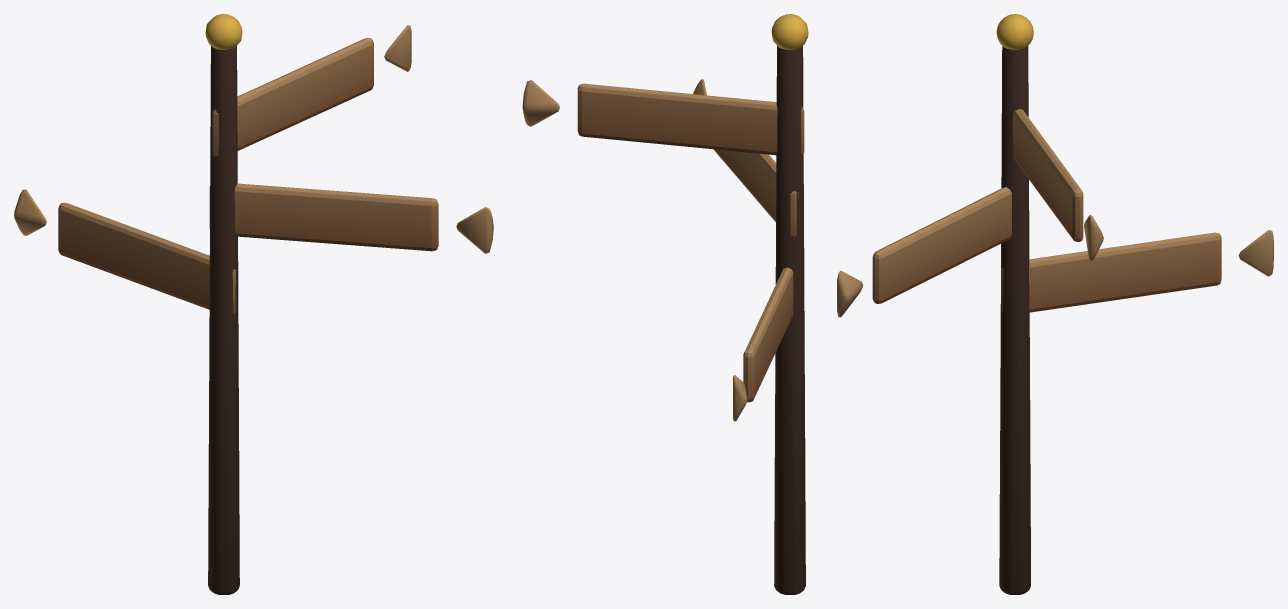
File: signpost.glb
3 views of the same model, side by side, from view 1: azimuth 30°, elevation 25°; view 2: azimuth 150°, elevation 25°; view 3: azimuth 270°, elevation 25° (orthographic).
Visible parts, largest first — view 1: Sign; view 2: Sign; view 3: Sign.
Boxes of the visible parts, x1,y1,x2,y2 form: Sign: (14, 14, 493, 594); Sign: (522, 14, 808, 594); Sign: (837, 14, 1273, 594).
Size of the model in its own units: 1.23 by 2.19 by 1.5.
